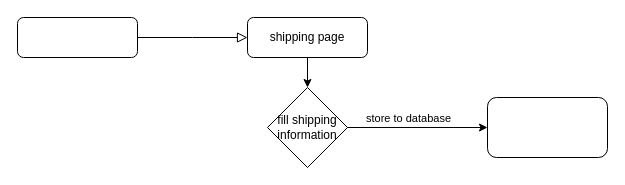
Some shapes in this 625 by 185 pixel diagram are drawn without their labels. The box of each missing label's shape, as (x1, y1, x2, y2) in pixels:
click on checkout: (16, 16, 138, 58)
database: (486, 96, 608, 158)
